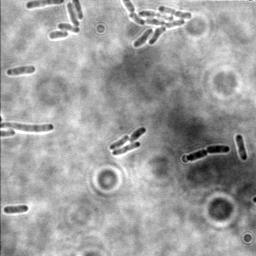Dividing: (186, 144, 231, 162)
Microcolony: (119, 1, 193, 50), (49, 1, 85, 41)
Rod: (1, 122, 55, 134), (111, 140, 141, 157), (5, 64, 37, 77), (235, 133, 249, 162), (2, 203, 30, 215), (109, 134, 130, 150), (128, 126, 148, 141)
